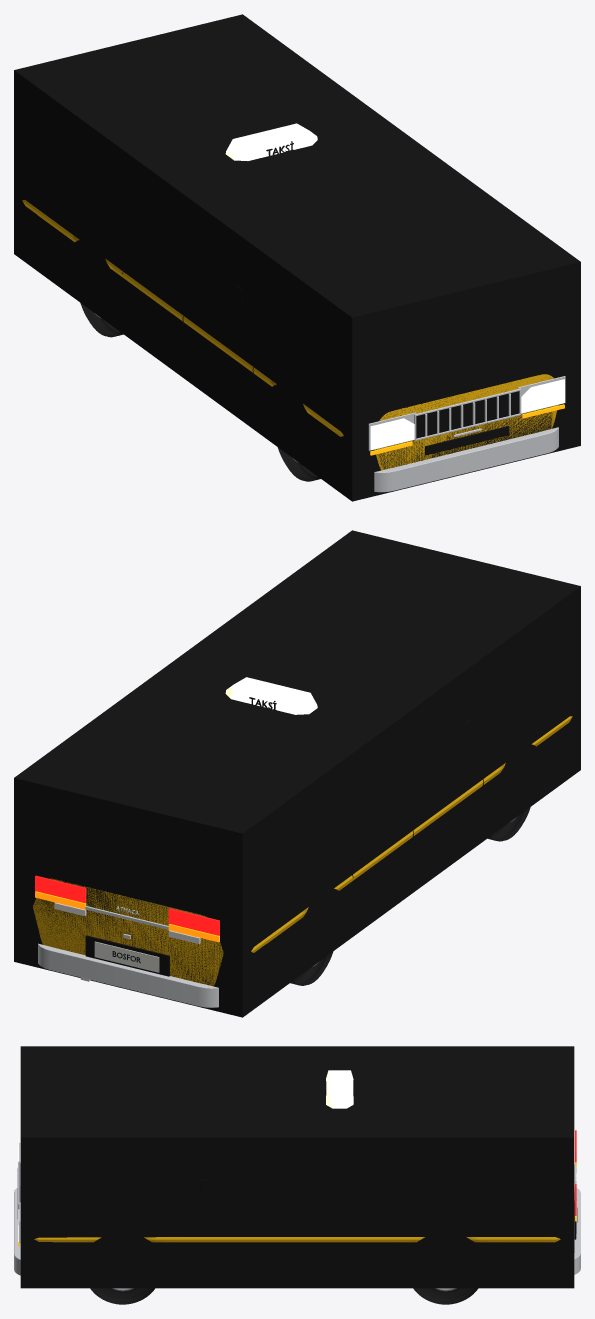
File: atmaca_taxi_lod0.glb
3 views of the same model, one above another, from view 1: azimuth 30°, elevation 25°; view 2: azimuth 150°, elevation 25°; view 3: azimuth 270°, elevation 25° (orthographic). The views are drawn at different scales.
Visible parts, largest first — view 1: col_body, trim, body, lights_front; view 2: col_body, body, trim, lights_rear, plate_rear; view 3: col_body, trim, body, wheel_RL, wheel_FL.
Part boxes in pixels (left/top/right/bottom): col_body: left=14, top=14, right=580, bottom=501; trim: left=122, top=123, right=565, bottom=492; body: left=22, top=200, right=558, bottom=470; lights_front: left=370, top=379, right=564, bottom=455; col_body: left=14, top=530, right=580, bottom=1017; body: left=33, top=716, right=572, bottom=985; trim: left=38, top=677, right=483, bottom=1007; lights_rear: left=35, top=875, right=219, bottom=944; plate_rear: left=94, top=941, right=159, bottom=972; col_body: left=20, top=1046, right=574, bottom=1288; trim: left=14, top=1070, right=580, bottom=1275; body: left=34, top=1237, right=560, bottom=1242; wheel_RL: left=413, top=1288, right=478, bottom=1304; wheel_FL: left=90, top=1288, right=154, bottom=1304.
Bounding box in the file's own units: 1.66 × 1.5 × 4.3.
